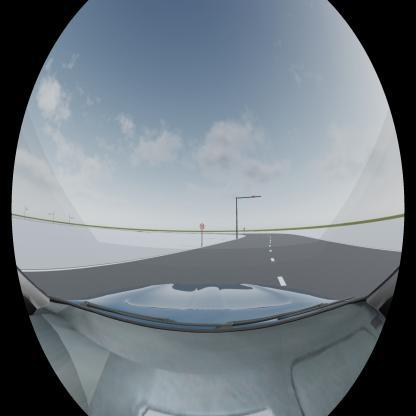Red Light: (252, 195, 256, 198)
